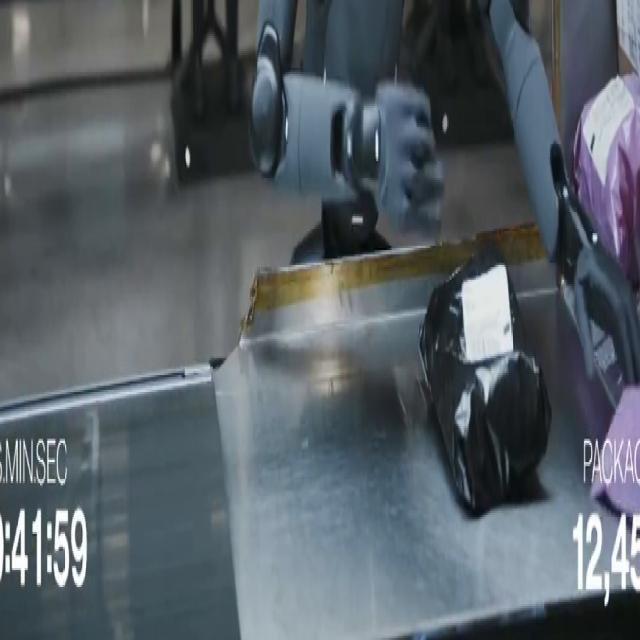package: (420, 246, 551, 514), (574, 75, 639, 283), (589, 388, 639, 514), (617, 0, 639, 76)
